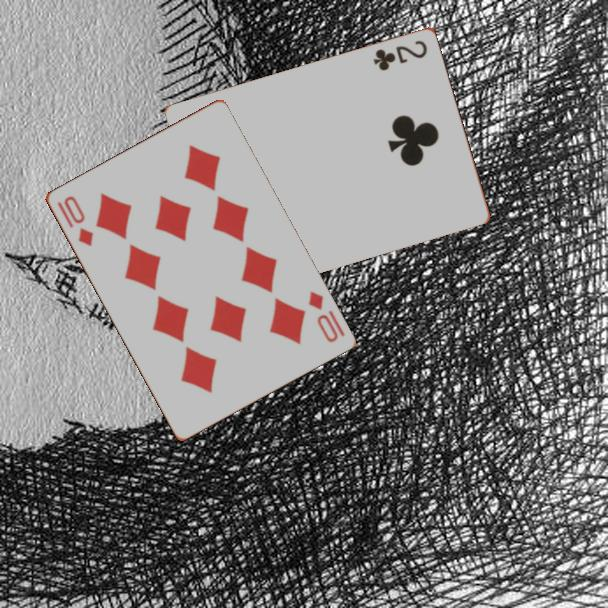c02: (370, 36, 430, 73)
d10: (304, 287, 347, 345), (53, 192, 96, 249)
